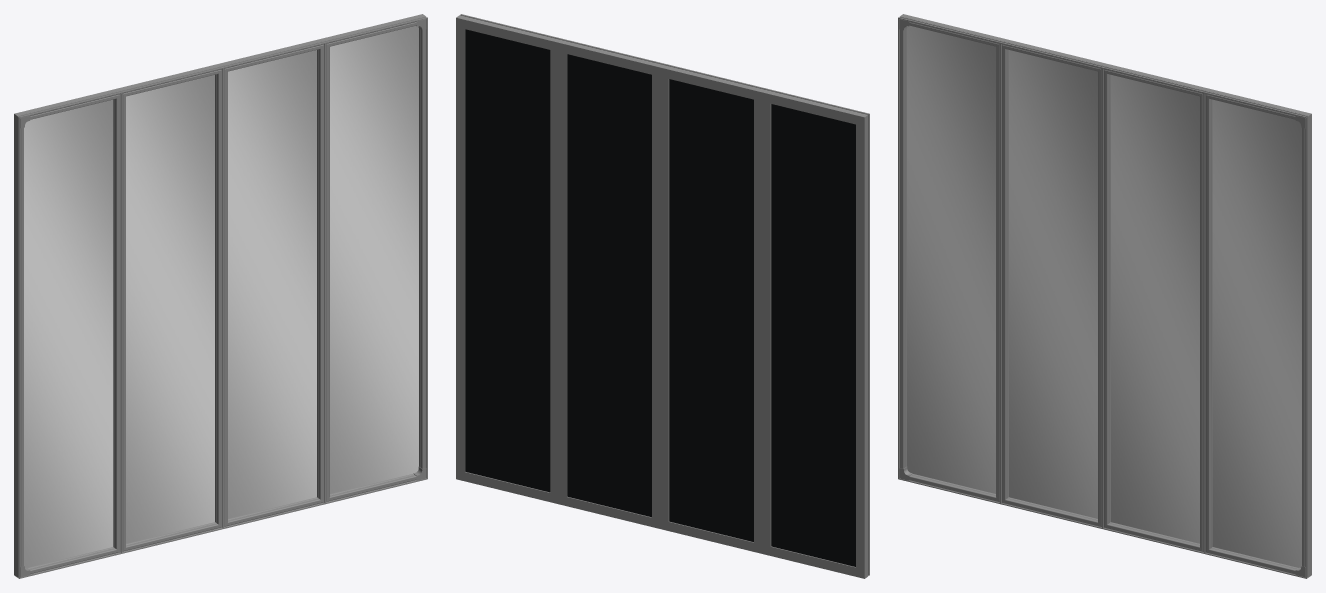
The picture shows the model from 3 angles, left to right: view 1: azimuth 30°, elevation 25°; view 2: azimuth 150°, elevation 25°; view 3: azimuth 330°, elevation 25°; orthographic projection.
Visible parts, largest first — view 1: Plane008, Plane005, Plane006, Plane010, Rectangle001; view 2: Rectangle001, Plane009, Plane002, Plane003, Plane007; view 3: Plane010, Plane005, Plane006, Plane008, Rectangle001.
Part boxes in pixels (box(x1,y1,x2,y2)): Plane008: box(24, 99, 113, 567); Plane005: box(228, 50, 316, 518); Plane006: box(126, 75, 214, 543); Plane010: box(330, 26, 418, 493); Rectangle001: box(14, 14, 427, 578); Rectangle001: box(456, 14, 869, 578); Plane009: box(465, 29, 550, 492); Plane002: box(567, 54, 651, 517); Plane003: box(669, 79, 753, 541); Plane007: box(771, 104, 855, 566); Plane010: box(1212, 99, 1301, 567); Plane005: box(1111, 75, 1199, 543); Plane006: box(1009, 50, 1097, 518); Plane008: box(907, 26, 995, 493); Rectangle001: box(898, 14, 1311, 578).
Size of the model in its own units: 1390 by 1500 by 30.
Materials: 4 (2 with a texture image).
